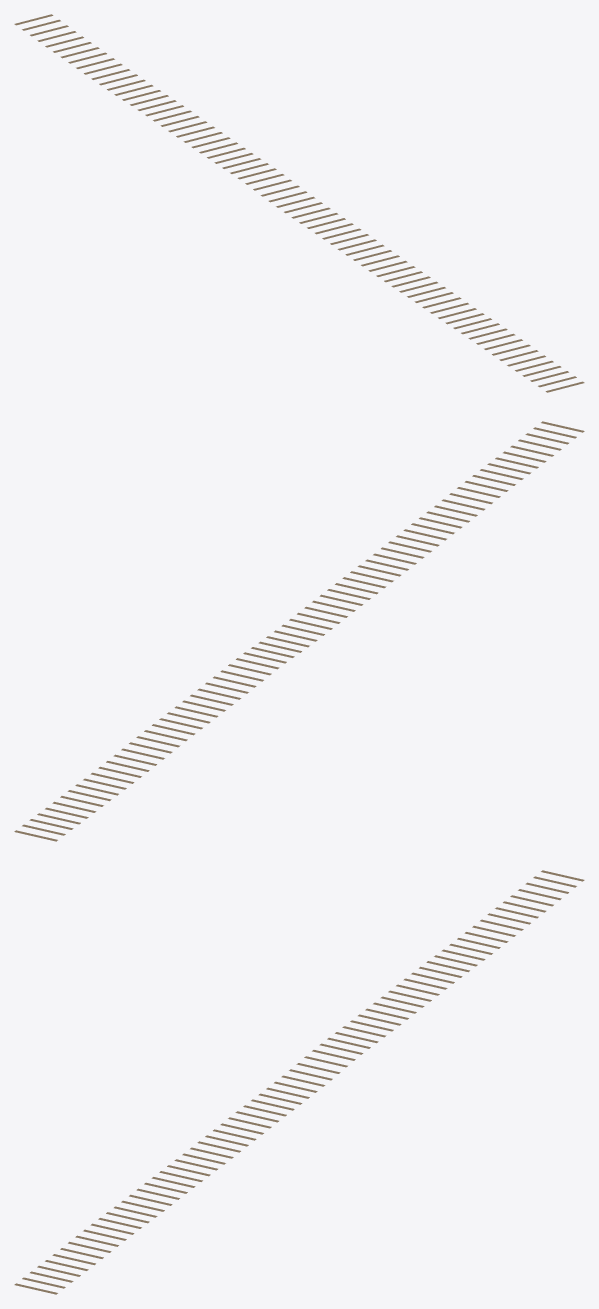
Rendered from c_1632_17823_rail_sleeper.glb.
The picture shows the model from 3 angles, top to bottom: view 1: azimuth 30°, elevation 25°; view 2: azimuth 150°, elevation 25°; view 3: azimuth 330°, elevation 25°; orthographic projection. The views are drawn at different scales.
Parts seen in each view (by area): view 1: geometry_0; view 2: geometry_0; view 3: geometry_0.
Part boxes in pixels (bbox=[...]): geometry_0: bbox=[14, 14, 584, 392]; geometry_0: bbox=[14, 421, 584, 841]; geometry_0: bbox=[14, 870, 584, 1294].
Size of the model in its own units: 3.91 by 0.1742 by 55.38.
